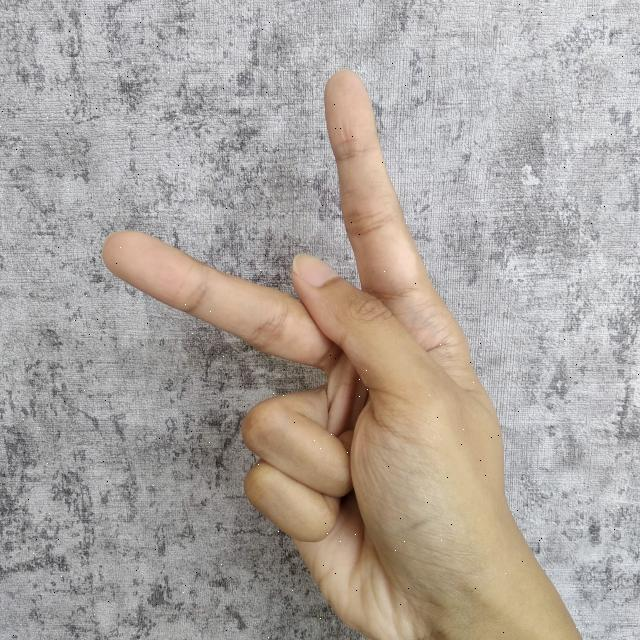K: (97, 64, 581, 640)
